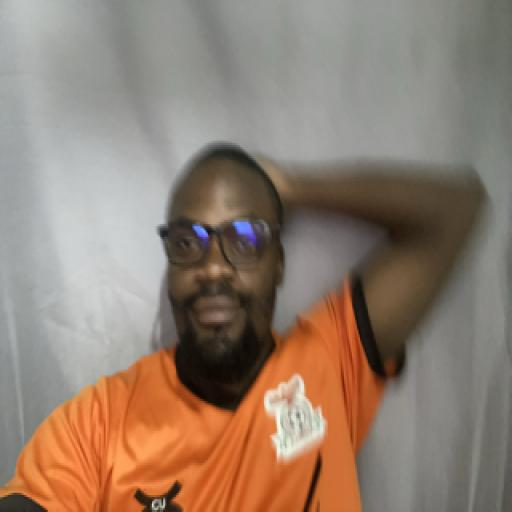JEANLUC: (155, 136, 290, 386)
